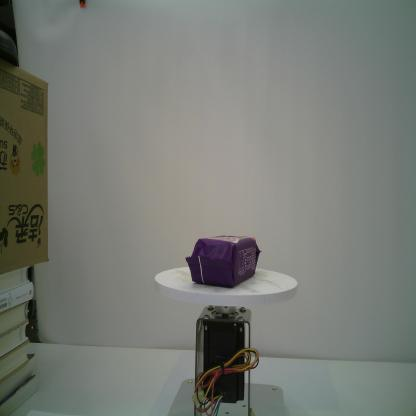Dessert: (184, 233, 264, 289)
